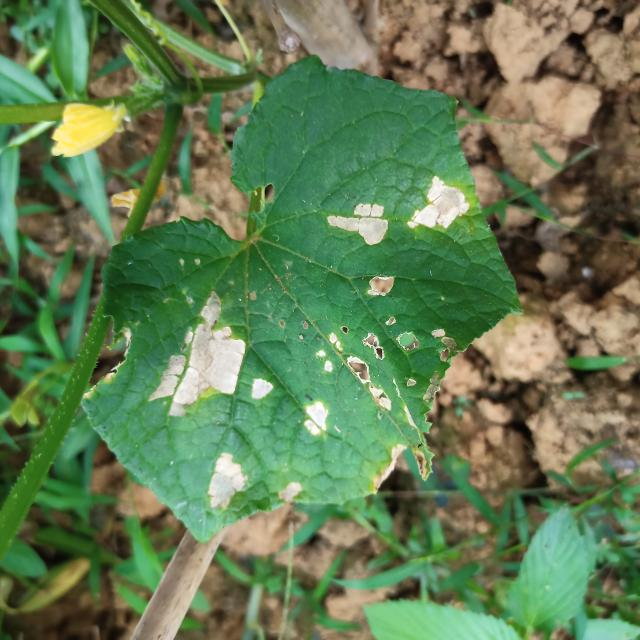disease_cucumber: (150, 277, 333, 516), (304, 268, 442, 468), (307, 165, 472, 262)
